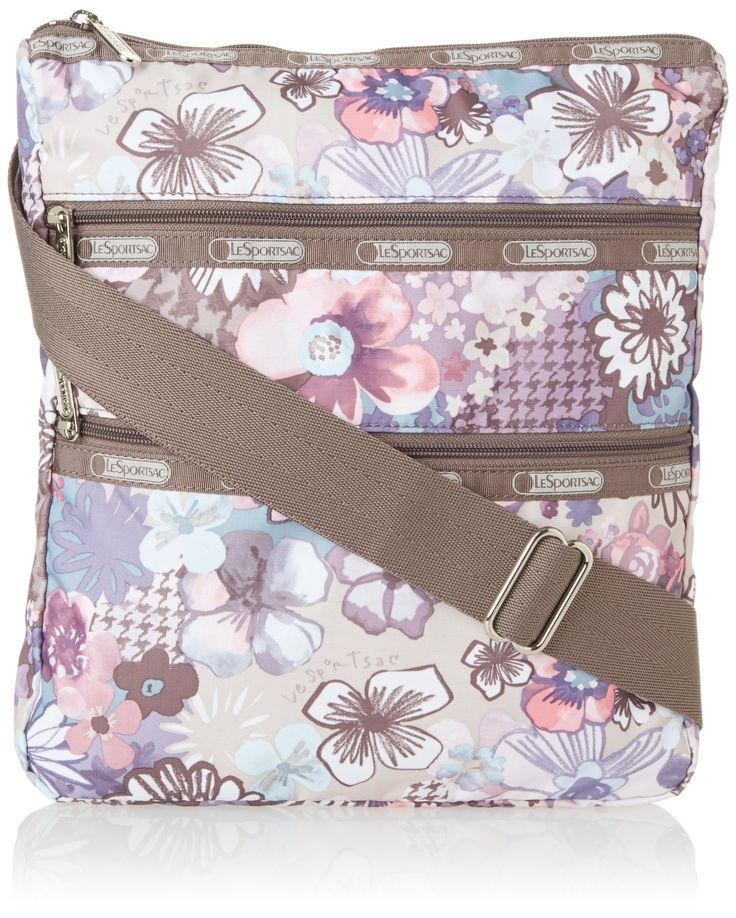nylon: (8, 15, 729, 811)
